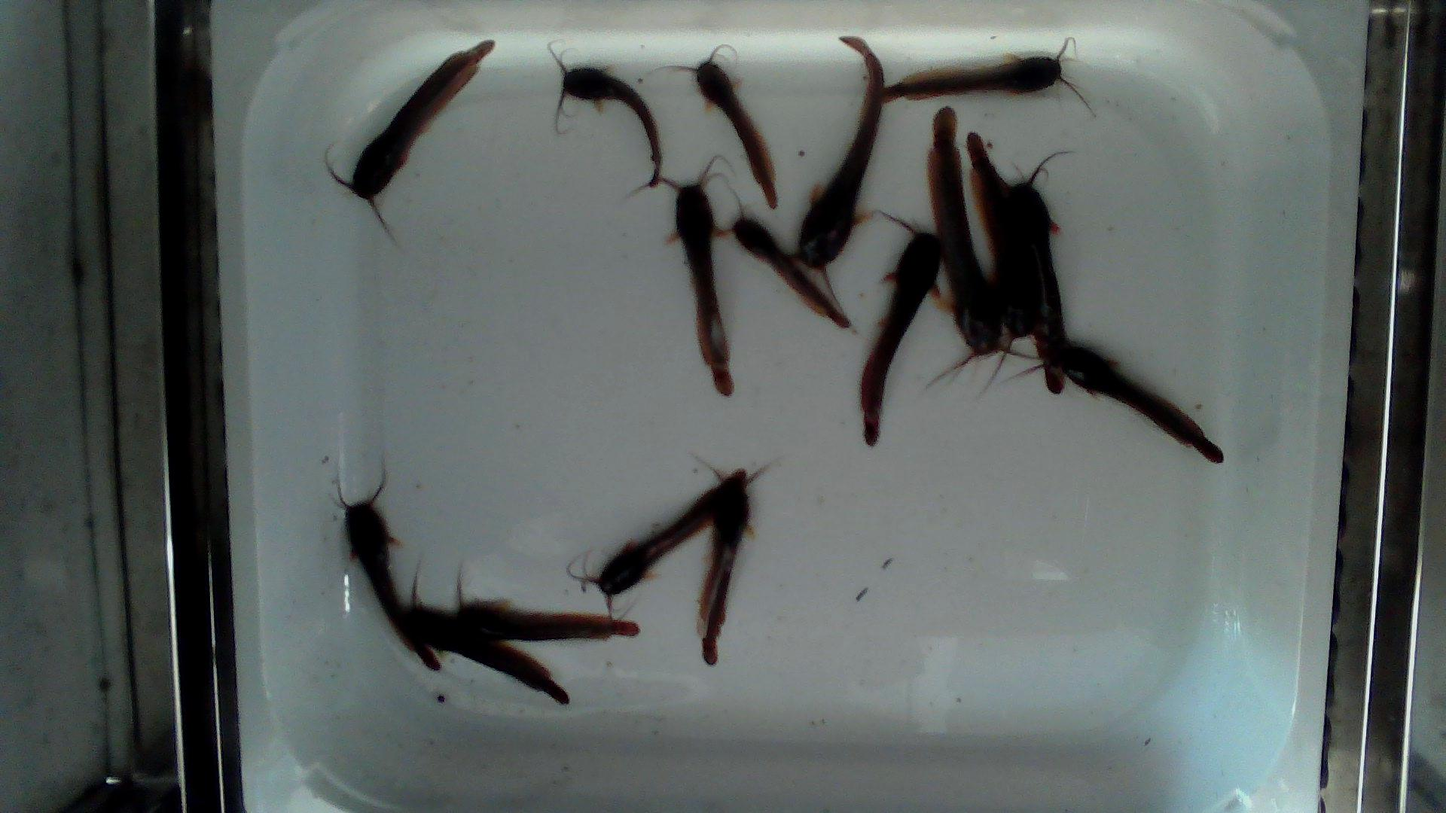lele: (329, 41, 493, 242), (406, 560, 570, 702), (563, 484, 720, 618), (795, 38, 883, 266), (1056, 343, 1222, 461), (964, 131, 1035, 384), (929, 109, 1001, 354), (860, 234, 939, 445), (1007, 148, 1074, 393), (548, 44, 662, 185), (345, 501, 438, 668), (456, 564, 639, 641), (732, 215, 850, 327), (696, 47, 776, 207), (881, 39, 1082, 102), (676, 184, 732, 395), (700, 470, 749, 665)
